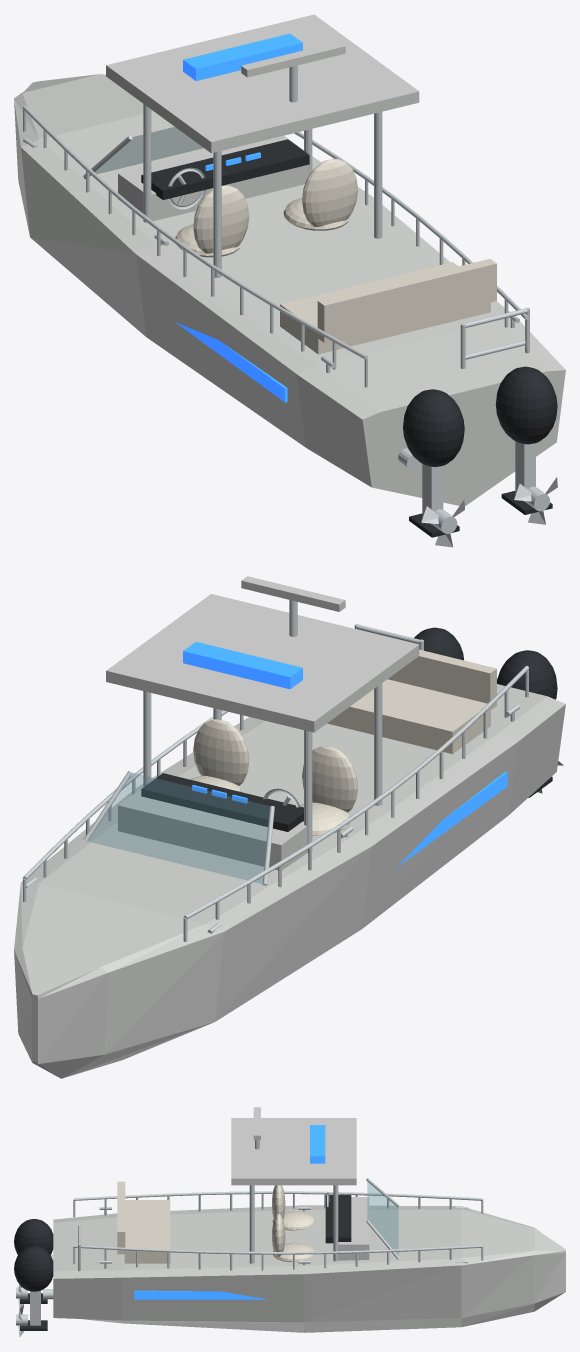
The model's file is boat_police.glb.
The picture shows the model from 3 angles, top to bottom: view 1: azimuth 30°, elevation 25°; view 2: azimuth 150°, elevation 25°; view 3: azimuth 270°, elevation 25°; orthographic projection. The views are drawn at different scales.
Parts seen in each view (by area): view 1: Hull, Motor_Outboard, Motor_Outboard_R, Gate_Transom, Propeller, Propeller_R; view 2: Hull, Motor_Outboard, Motor_Outboard_R; view 3: Hull, Motor_Outboard_R, Motor_Outboard.
Boxes of the visible parts, x1,y1,x2,y2 form: Hull: (14,14,565,506); Motor_Outboard: (403,389,464,537); Motor_Outboard_R: (495,366,557,514); Gate_Transom: (460,307,529,368); Propeller: (421,499,464,547); Propeller_R: (514,477,557,524); Hull: (14,576,565,1078); Motor_Outboard: (497,650,557,797); Motor_Outboard_R: (414,627,463,660); Hull: (43,1107,565,1332); Motor_Outboard_R: (14,1246,53,1330); Motor_Outboard: (14,1219,53,1303).
Size of what is drawn, in the model's own units: 2.65 by 3.79 by 8.97.
